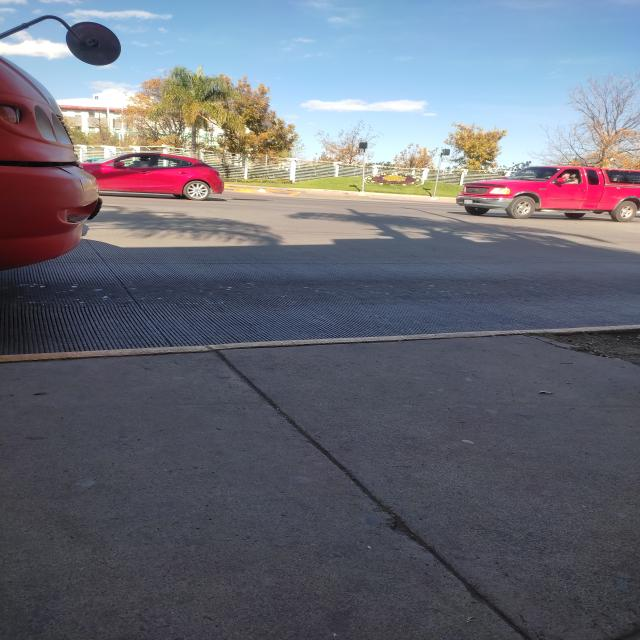Auto: (458, 146, 640, 234), (71, 133, 233, 214)
Autobus: (2, 0, 114, 282)
